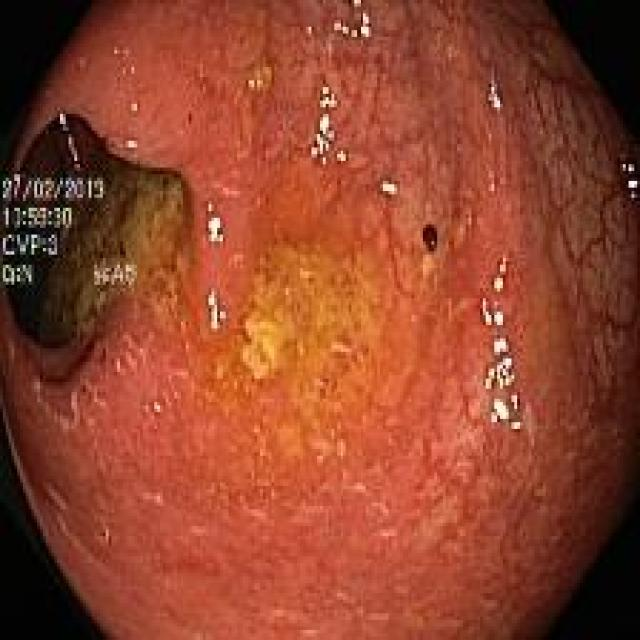ulcerative-colitis-grade-1: (0, 3, 640, 638)
